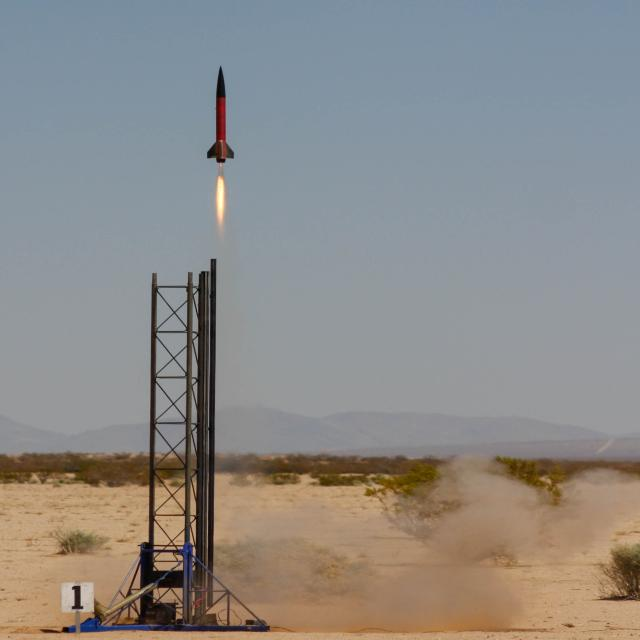Rocket: (208, 65, 235, 164)
